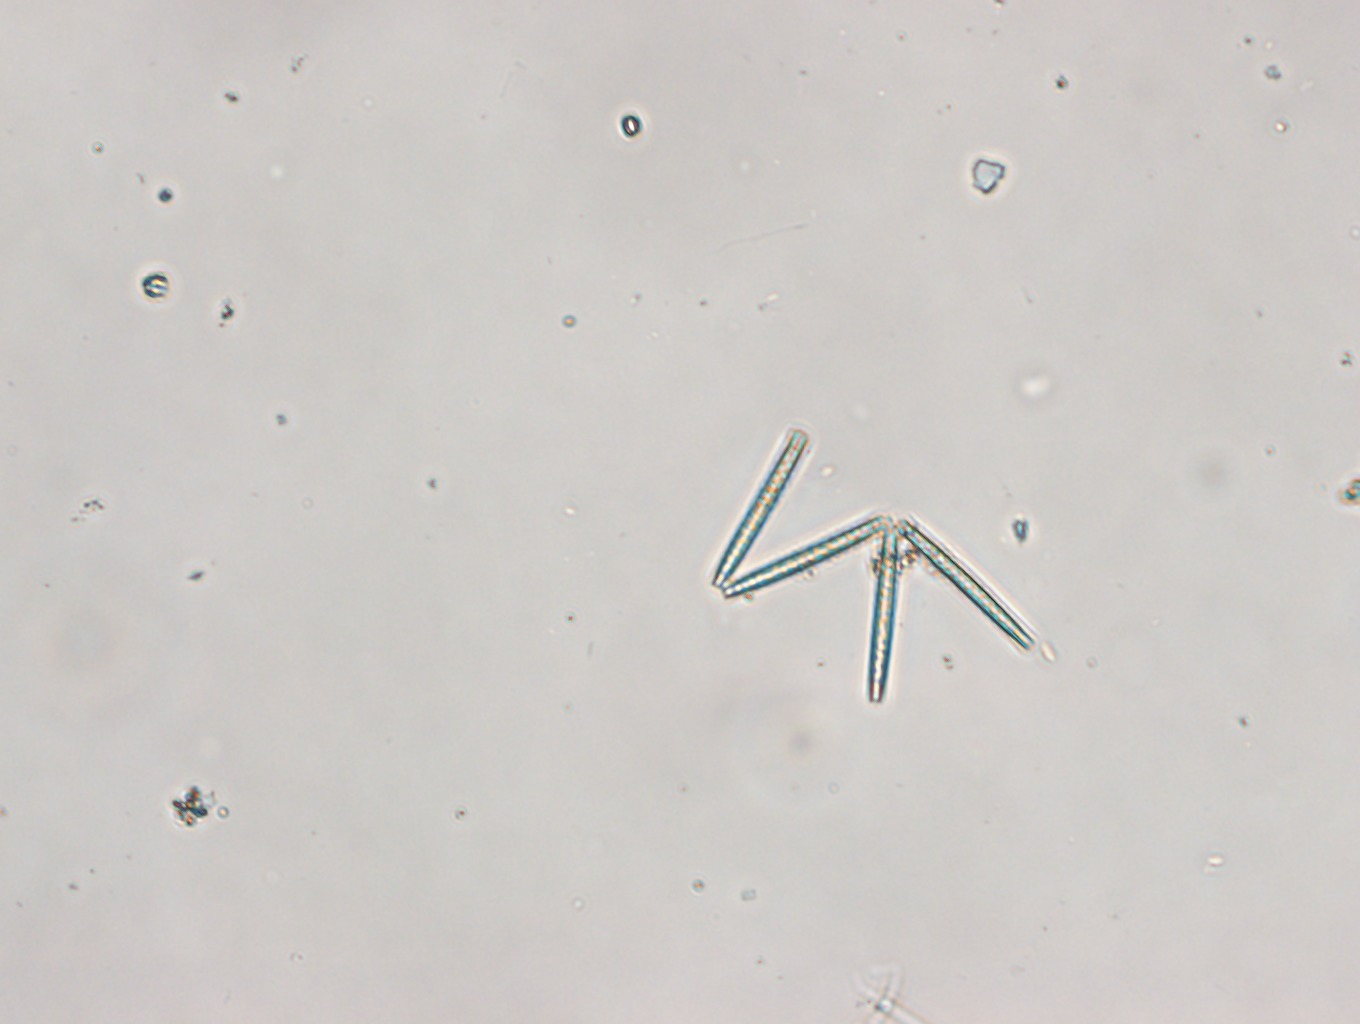thalassionema nitzschioides: (710, 425, 1033, 705)
